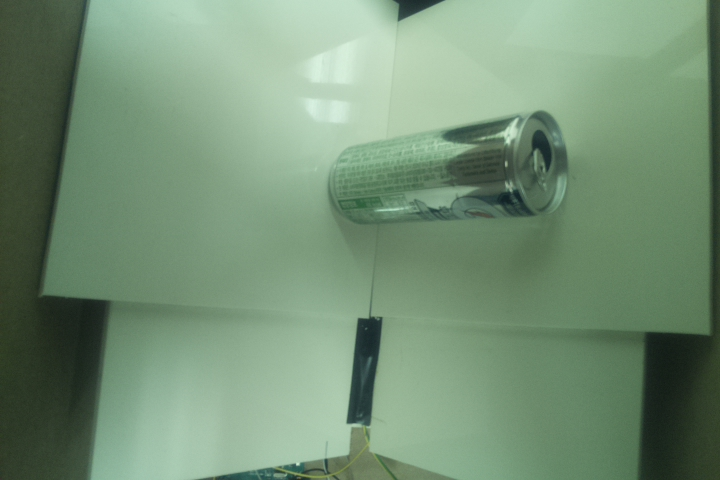can: (325, 108, 572, 227)
